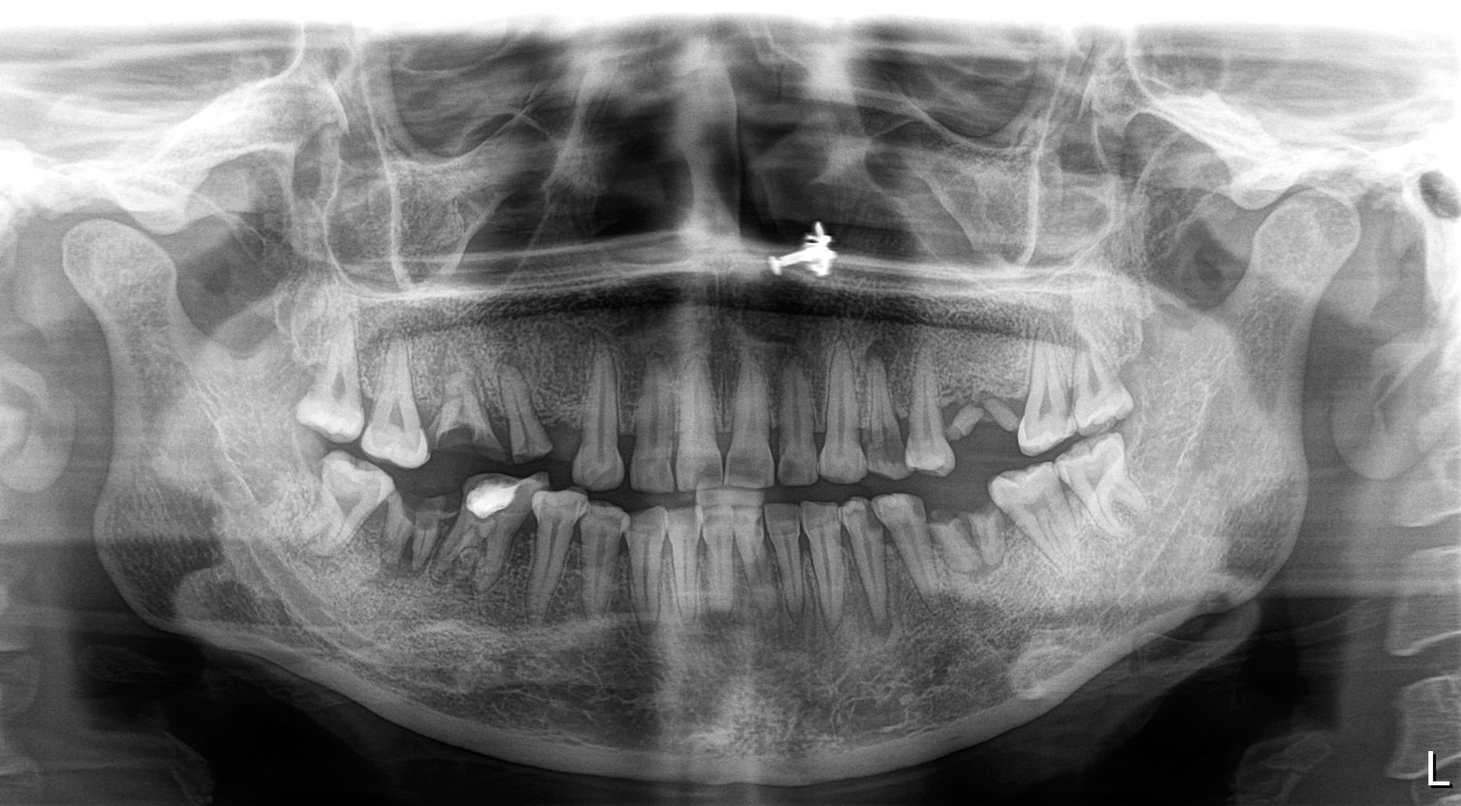Dental Caries: (432, 415, 497, 457)
Periodontal Pocket: (539, 512, 922, 636), (567, 358, 910, 485)
Retained Root: (945, 360, 1019, 458), (929, 501, 1005, 585), (394, 480, 453, 578)
